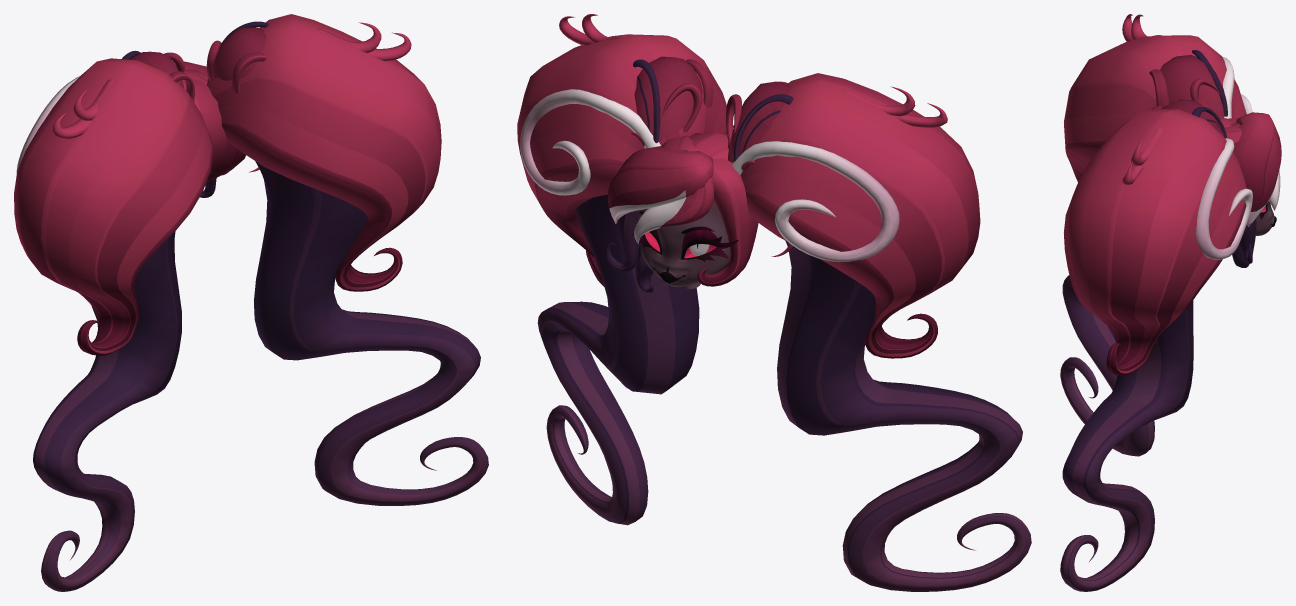
The model's file is velvette.glb.
The picture shows the model from 3 angles, left to right: view 1: azimuth 30°, elevation 25°; view 2: azimuth 150°, elevation 25°; view 3: azimuth 270°, elevation 25°; orthographic projection. The views are drawn at different scales.
Visible parts, largest first — view 1: velvett; view 2: velvett; view 3: velvett.
Part boxes in pixels (<box>): velvett: <box>14,14,488,591</box>; velvett: <box>517,14,1031,591</box>; velvett: <box>1060,14,1281,591</box>.
Size of the model in its own units: 5.47 by 5.57 by 2.55.
2 materials, 2 textured.
